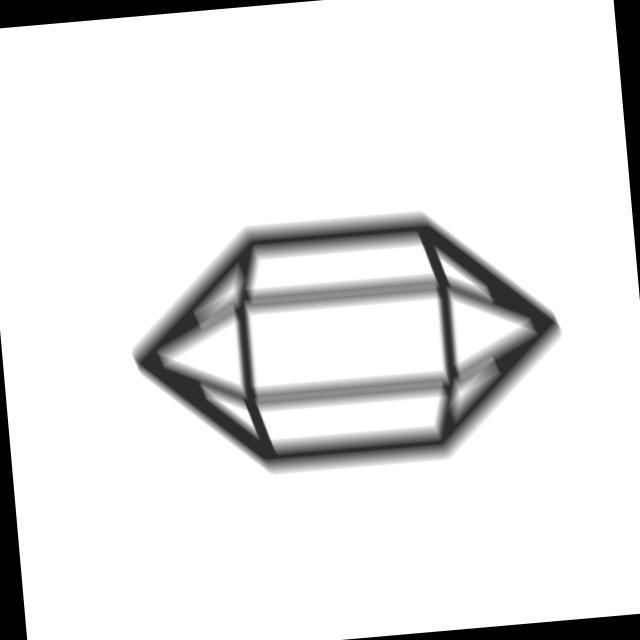crystal: (113, 189, 581, 500)
